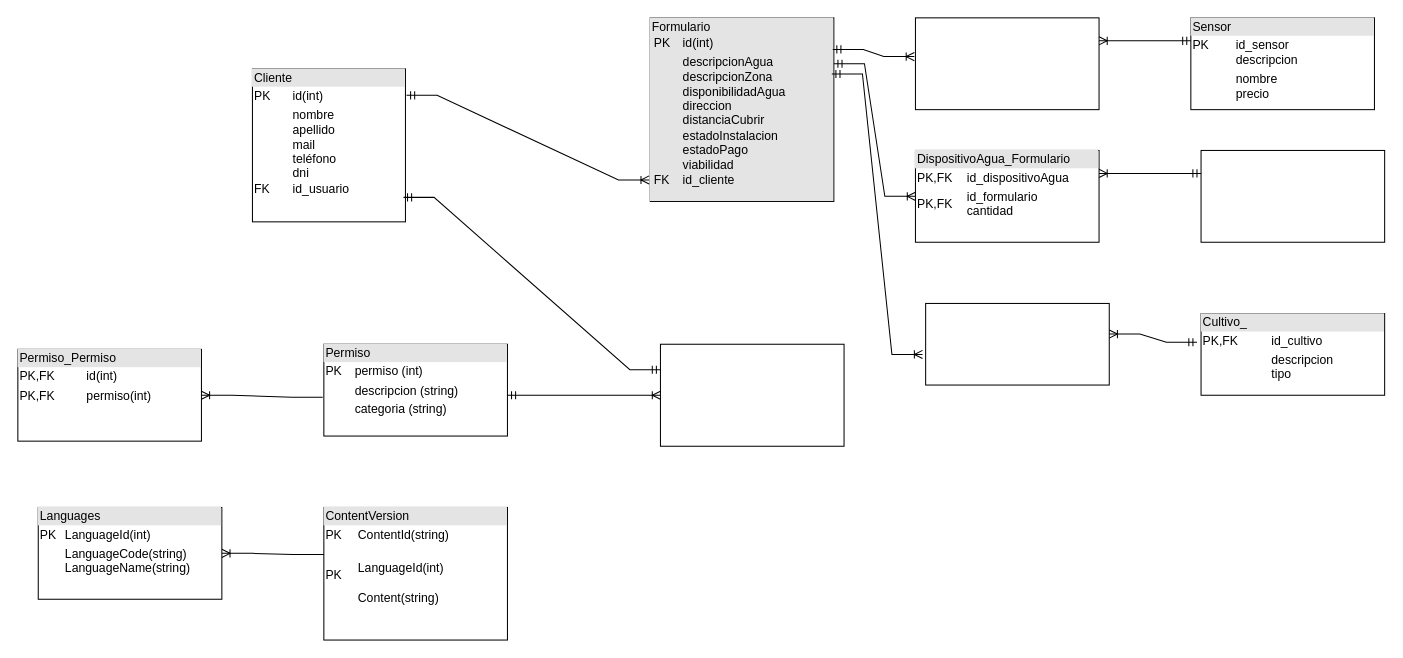
Some shapes in this 1403 by 658 pixel diagram are drawn without their labels. The shapes that lost their labels are listed below. From the top down, each one's box as (x1, y1, x2, y2) in pixels, then its label:
(914, 17, 1099, 110): Sensor_Formulario PK,FK PK,FK id_sensor id_formulario cantidad
(1200, 149, 1385, 242): DispositivoAgua PK, id_dispositivoAgua descripcion nombre precio
(925, 302, 1109, 385): Cultivo_Formulario PK,FK id_cultivo PK,FK id_formulario cantidad
(659, 343, 844, 446): Usuario PK id (int) usuario (string) FK contraseña (string) roll(int)
